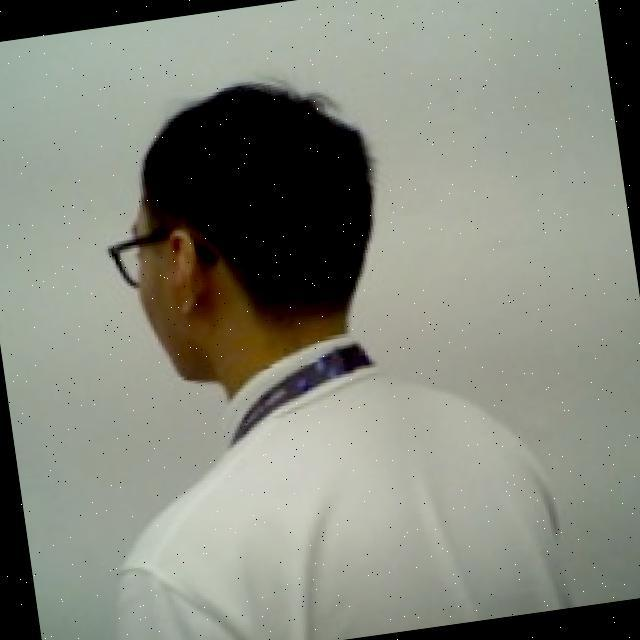no_gloves: (87, 62, 399, 340)
